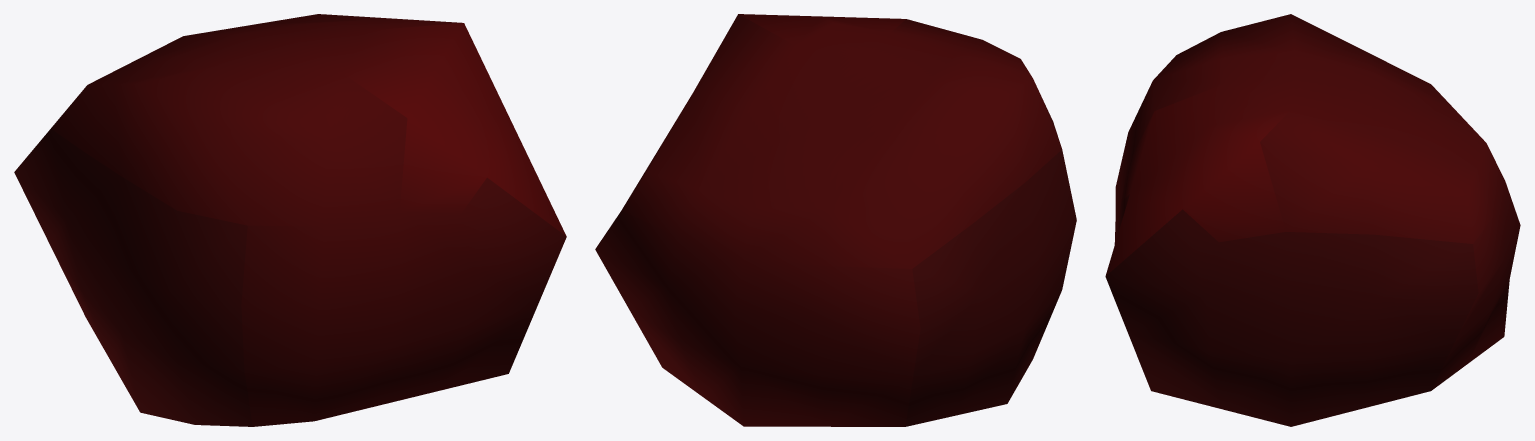
Rendered from geology-pebbles-asphalt_v3.fbx.
3 renders of one model, left to right at view 1: azimuth 30°, elevation 25°; view 2: azimuth 150°, elevation 25°; view 3: azimuth 270°, elevation 25°, orthographic. The views are drawn at different scales.
Visible parts, largest first — view 1: Asphalt_v3; view 2: Asphalt_v3; view 3: Asphalt_v3.
Part boxes in pixels (x1,y1,x2,y2): Asphalt_v3: (14,14,566,426); Asphalt_v3: (595,14,1076,426); Asphalt_v3: (1105,14,1520,426).
Bounding box in the file's own units: 5.86 × 5.07 × 6.54.
